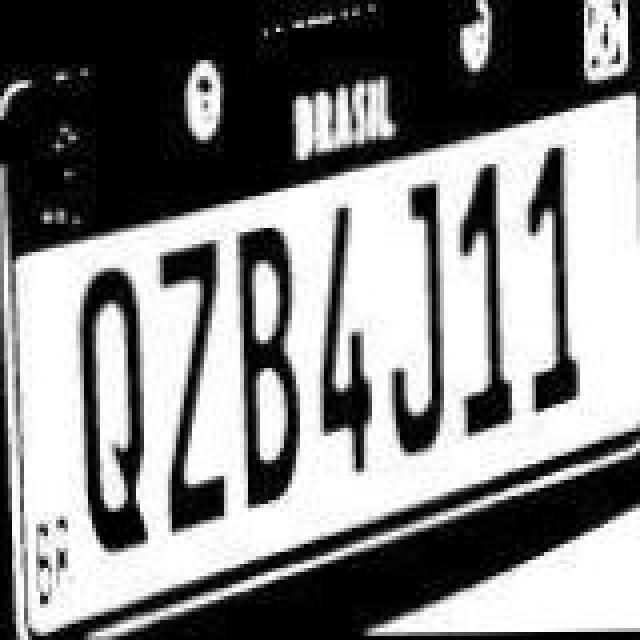1: (524, 148, 592, 432), (450, 160, 514, 444)
4: (312, 202, 380, 478)
B: (232, 220, 300, 516)
J: (386, 184, 450, 464)
Q: (76, 266, 152, 562)
Z: (156, 230, 232, 534)
